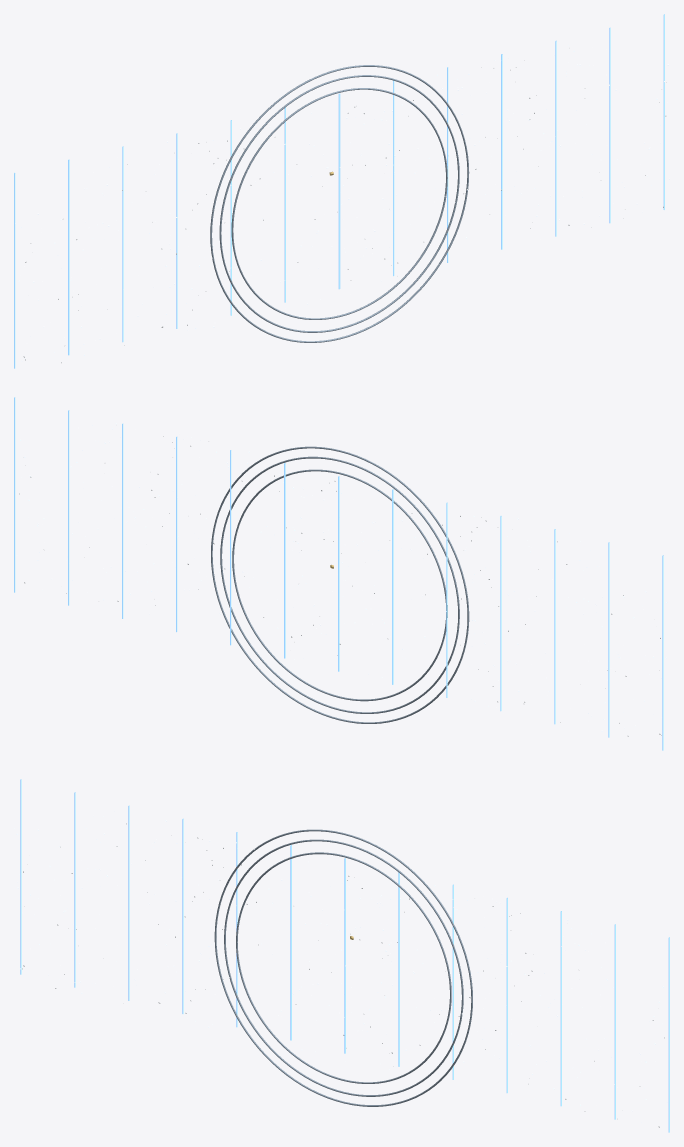
Rendered from L84_01_PanoramicStarfieldSphere_Fitted.fbx.
3 views of the same model, one above another, from view 1: azimuth 30°, elevation 25°; view 2: azimuth 150°, elevation 25°; view 3: azimuth 330°, elevation 25° (orthographic).
Parts seen in each view (by area): view 1: L84_PanoramicStarfieldSphere_Static__tint59738F, L84_PanoramicStarfieldSphere_Static__tint3D78F5; view 2: L84_PanoramicStarfieldSphere_Static__tint59738F, L84_PanoramicStarfieldSphere_Static__tint3D78F5; view 3: L84_PanoramicStarfieldSphere_Static__tint59738F, L84_PanoramicStarfieldSphere_Static__tint3D78F5.
Part boxes in pixels (x1,y1,x2,y2): L84_PanoramicStarfieldSphere_Static__tint59738F: (210, 65, 469, 342); L84_PanoramicStarfieldSphere_Static__tint3D78F5: (14, 14, 664, 368); L84_PanoramicStarfieldSphere_Static__tint59738F: (211, 446, 469, 723); L84_PanoramicStarfieldSphere_Static__tint3D78F5: (14, 397, 663, 750); L84_PanoramicStarfieldSphere_Static__tint59738F: (214, 829, 472, 1106); L84_PanoramicStarfieldSphere_Static__tint3D78F5: (20, 779, 669, 1132).
Bounding box in the file's own units: 241 × 95.46 × 8.73.
